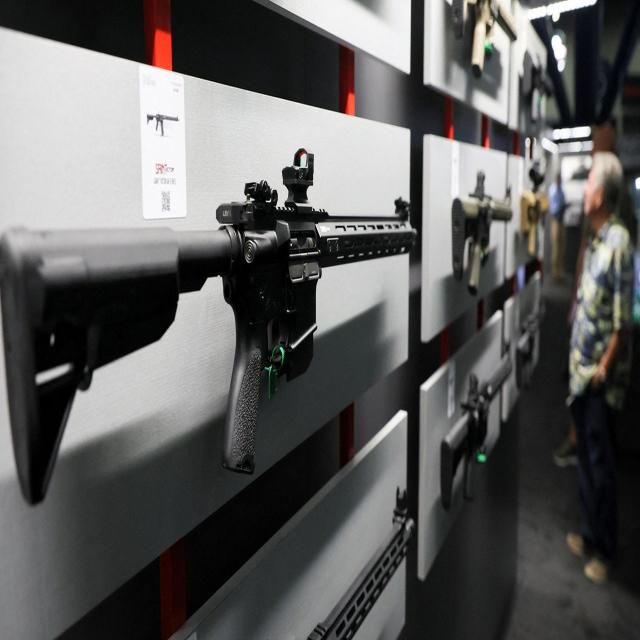Rifle: (0, 151, 416, 509), (440, 354, 512, 511), (452, 172, 514, 293)
